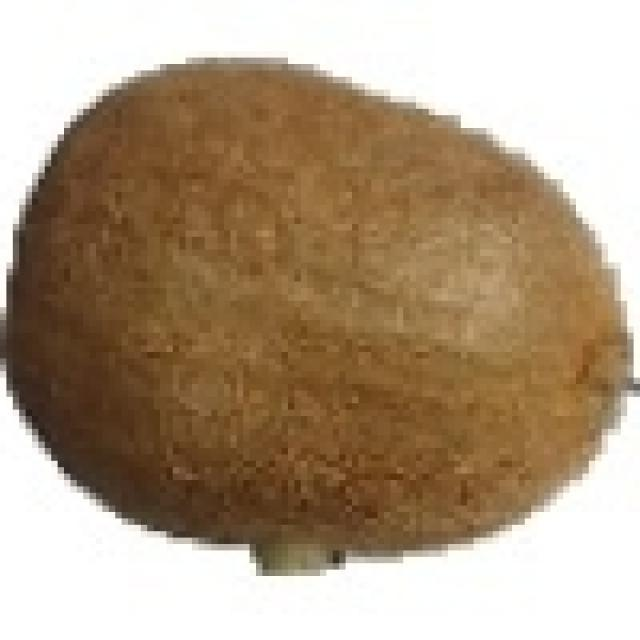kiwi: (19, 51, 634, 557)
